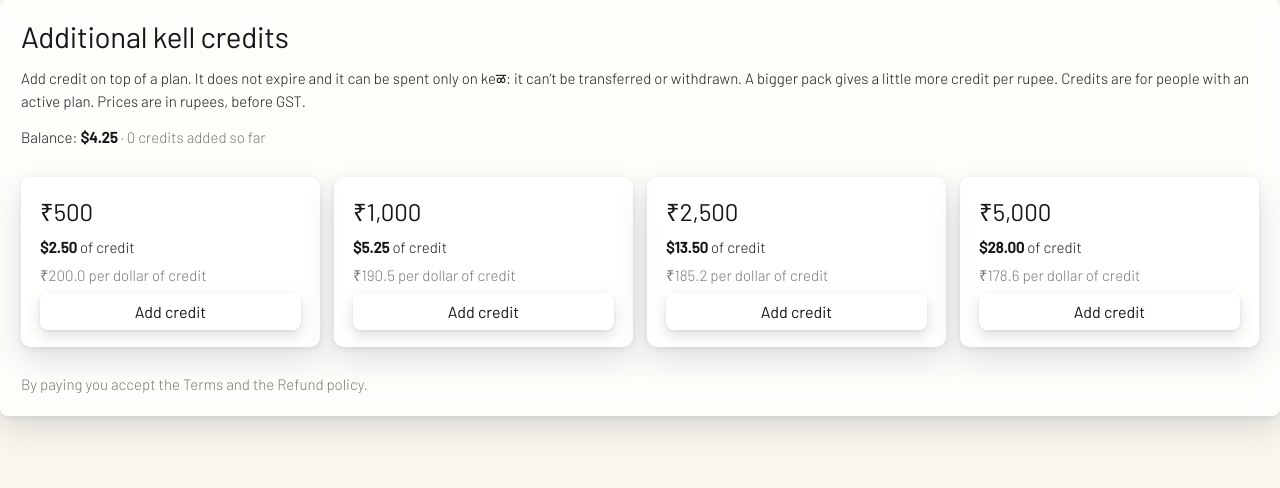
Test: buying a pack › the order names the pack and nothing else, and a closed window charges nothing and adds nothing
This screenshot has width=1280, height=488.
Step 1. Click the button "Add credit" below "190.5" → (484, 311), box [353, 293, 614, 330]
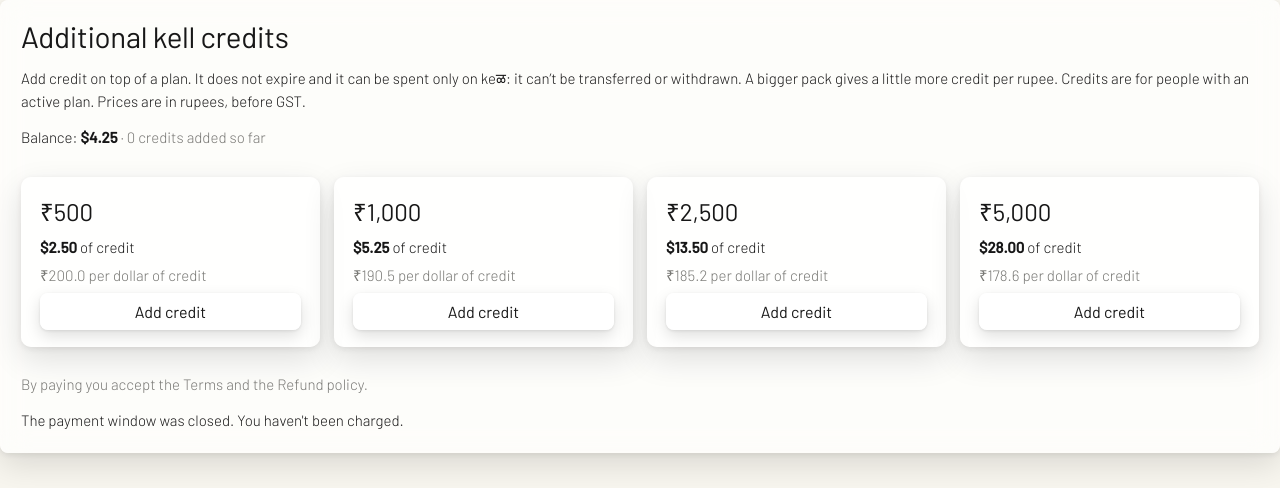
Expected: the text "Balance: $4.25" is shown, [21, 128, 266, 146]
Expected: the text "window was closed" is shown, [21, 411, 404, 429]
